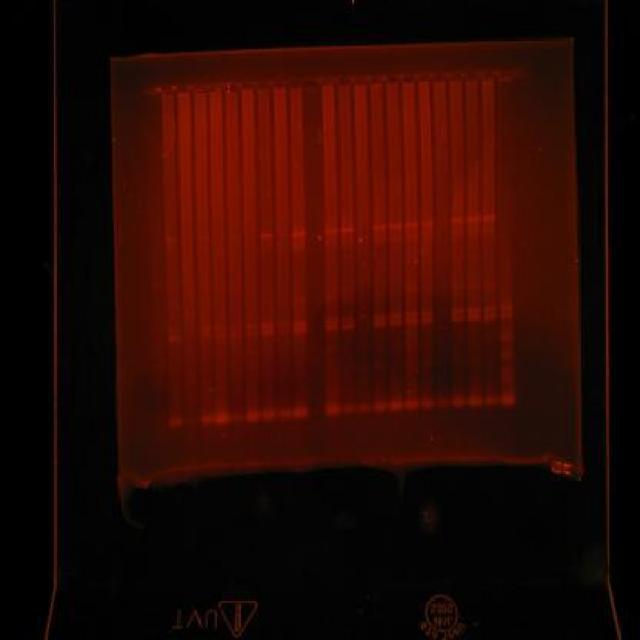B: (323, 403, 342, 419), (499, 392, 516, 408), (466, 393, 483, 409), (483, 391, 499, 407), (260, 407, 276, 422), (451, 393, 466, 409), (403, 397, 420, 411), (213, 412, 230, 426), (341, 402, 356, 416), (388, 398, 403, 412), (293, 406, 309, 419), (498, 331, 514, 344), (499, 374, 516, 386), (278, 408, 292, 422), (246, 409, 260, 423), (436, 396, 450, 410), (357, 401, 372, 414), (420, 396, 434, 409), (169, 416, 183, 429), (372, 402, 388, 413), (199, 414, 213, 426), (480, 313, 498, 322), (230, 413, 244, 424), (357, 362, 371, 373), (468, 357, 482, 368), (290, 240, 306, 249), (357, 376, 371, 386), (290, 230, 307, 238), (434, 324, 451, 332), (421, 358, 434, 368), (324, 324, 340, 332), (260, 329, 276, 337), (498, 303, 514, 311), (498, 310, 514, 318), (450, 314, 466, 322), (403, 310, 419, 318), (228, 323, 244, 331), (293, 294, 307, 303), (500, 351, 514, 360), (324, 317, 339, 325), (388, 312, 403, 320), (324, 294, 338, 302), (340, 316, 354, 324), (342, 324, 356, 332), (293, 328, 307, 336), (293, 320, 307, 328), (260, 321, 276, 328), (277, 320, 291, 328), (277, 328, 291, 336), (246, 323, 260, 331), (373, 223, 387, 231), (466, 306, 480, 314), (466, 314, 480, 322), (450, 307, 464, 315), (482, 282, 496, 290), (420, 316, 434, 324), (420, 308, 434, 316), (404, 318, 418, 326), (389, 319, 403, 327), (373, 313, 387, 321), (373, 320, 387, 328), (340, 286, 354, 294), (198, 333, 212, 341), (214, 332, 228, 340), (213, 324, 227, 332), (372, 364, 386, 372), (164, 235, 178, 243), (500, 367, 514, 375), (434, 358, 448, 366), (373, 237, 387, 245), (229, 331, 243, 338), (340, 227, 356, 233), (258, 232, 274, 238), (168, 335, 180, 343), (168, 328, 180, 336), (388, 222, 403, 228), (324, 228, 338, 234), (340, 294, 354, 300), (246, 332, 260, 338), (404, 222, 418, 228), (450, 217, 464, 223), (466, 216, 480, 222), (482, 214, 496, 220), (483, 306, 497, 312), (466, 282, 480, 288), (372, 291, 386, 297), (450, 284, 464, 290), (198, 326, 212, 332), (196, 236, 210, 242), (260, 300, 274, 306), (421, 220, 434, 226), (405, 288, 418, 294)
L: (135, 65, 534, 102)
Pc: (240, 79, 254, 95), (464, 70, 478, 86), (402, 70, 416, 86), (386, 71, 399, 87), (177, 84, 191, 98), (208, 82, 222, 96), (497, 69, 511, 83), (516, 67, 530, 81), (480, 69, 494, 83), (448, 70, 462, 84), (433, 70, 447, 84), (353, 73, 367, 87), (289, 76, 303, 90), (272, 77, 286, 91), (256, 79, 270, 93), (418, 70, 430, 86), (370, 72, 382, 88), (338, 73, 350, 89), (224, 82, 238, 95), (321, 74, 334, 88), (193, 84, 207, 96), (304, 78, 318, 90), (160, 87, 174, 98), (144, 87, 156, 96)
